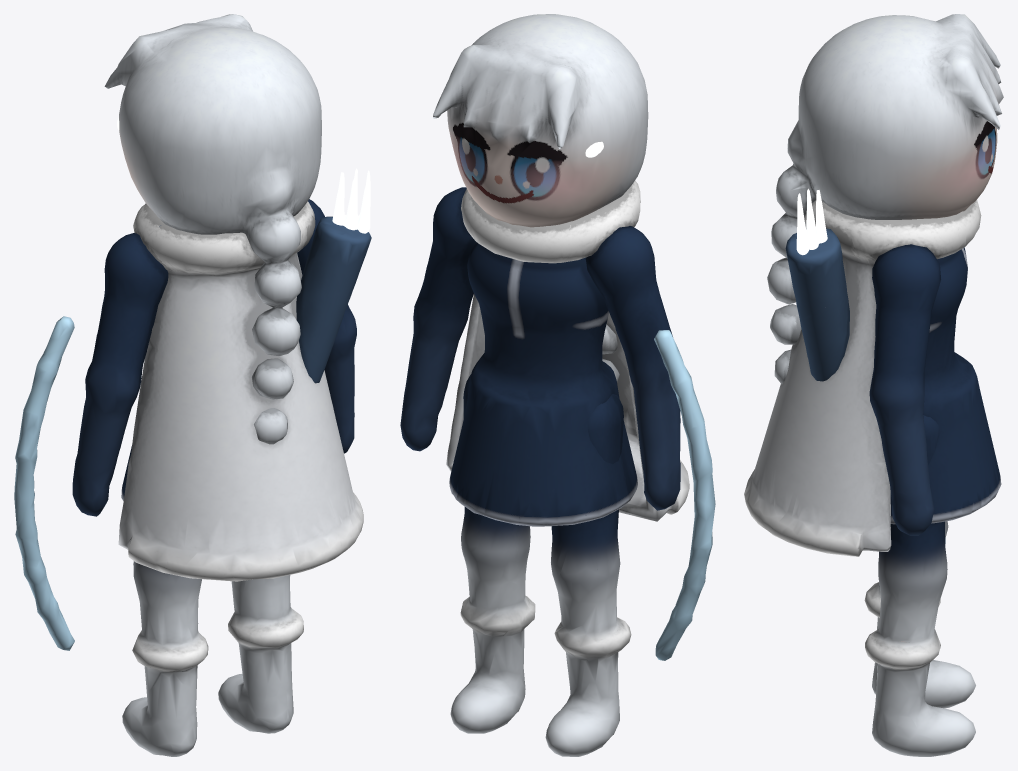
The model's file is Kiriha.glb.
3 renders of one model, left to right at view 1: azimuth 30°, elevation 25°; view 2: azimuth 150°, elevation 25°; view 3: azimuth 270°, elevation 25°, orthographic.
Visible parts, largest first — view 1: Cape, Head, ArmL, LegL, LegR, Body, Weapon, ArmR, Body_Glow; view 2: Body, Head, LegL, LegR, ArmL, Cape, ArmR, Weapon; view 3: Head, Cape, Body, LegR, ArmR, LegL, Body_Glow.
Boxes of the visible parts, x1,y1,x2,y2 form: Cape: (118,201,363,581); Head: (104,14,321,444); ArmL: (72,233,168,516); LegL: (122,561,208,756); LegR: (218,575,303,733); Body: (121,216,371,500); Weapon: (14,316,74,650); ArmR: (297,199,356,453); Body_Glow: (332,168,370,233); Body: (449,242,637,526); Head: (433,14,648,382); LegL: (545,394,631,756); LegR: (450,374,535,733); ArmL: (585,226,680,510); Cape: (446,180,689,521); ArmR: (400,187,476,451); Weapon: (654,330,715,660); Head: (767,14,1003,384); Cape: (744,200,981,556); Body: (785,228,1001,524); LegR: (865,415,975,756); ArmR: (869,244,940,535); LegL: (864,521,975,708); Body_Glow: (796,188,827,255).
Bounding box in the file's own units: 0.8908 × 1.86 × 0.6212.
Materials: 3 (1 with a texture image).
